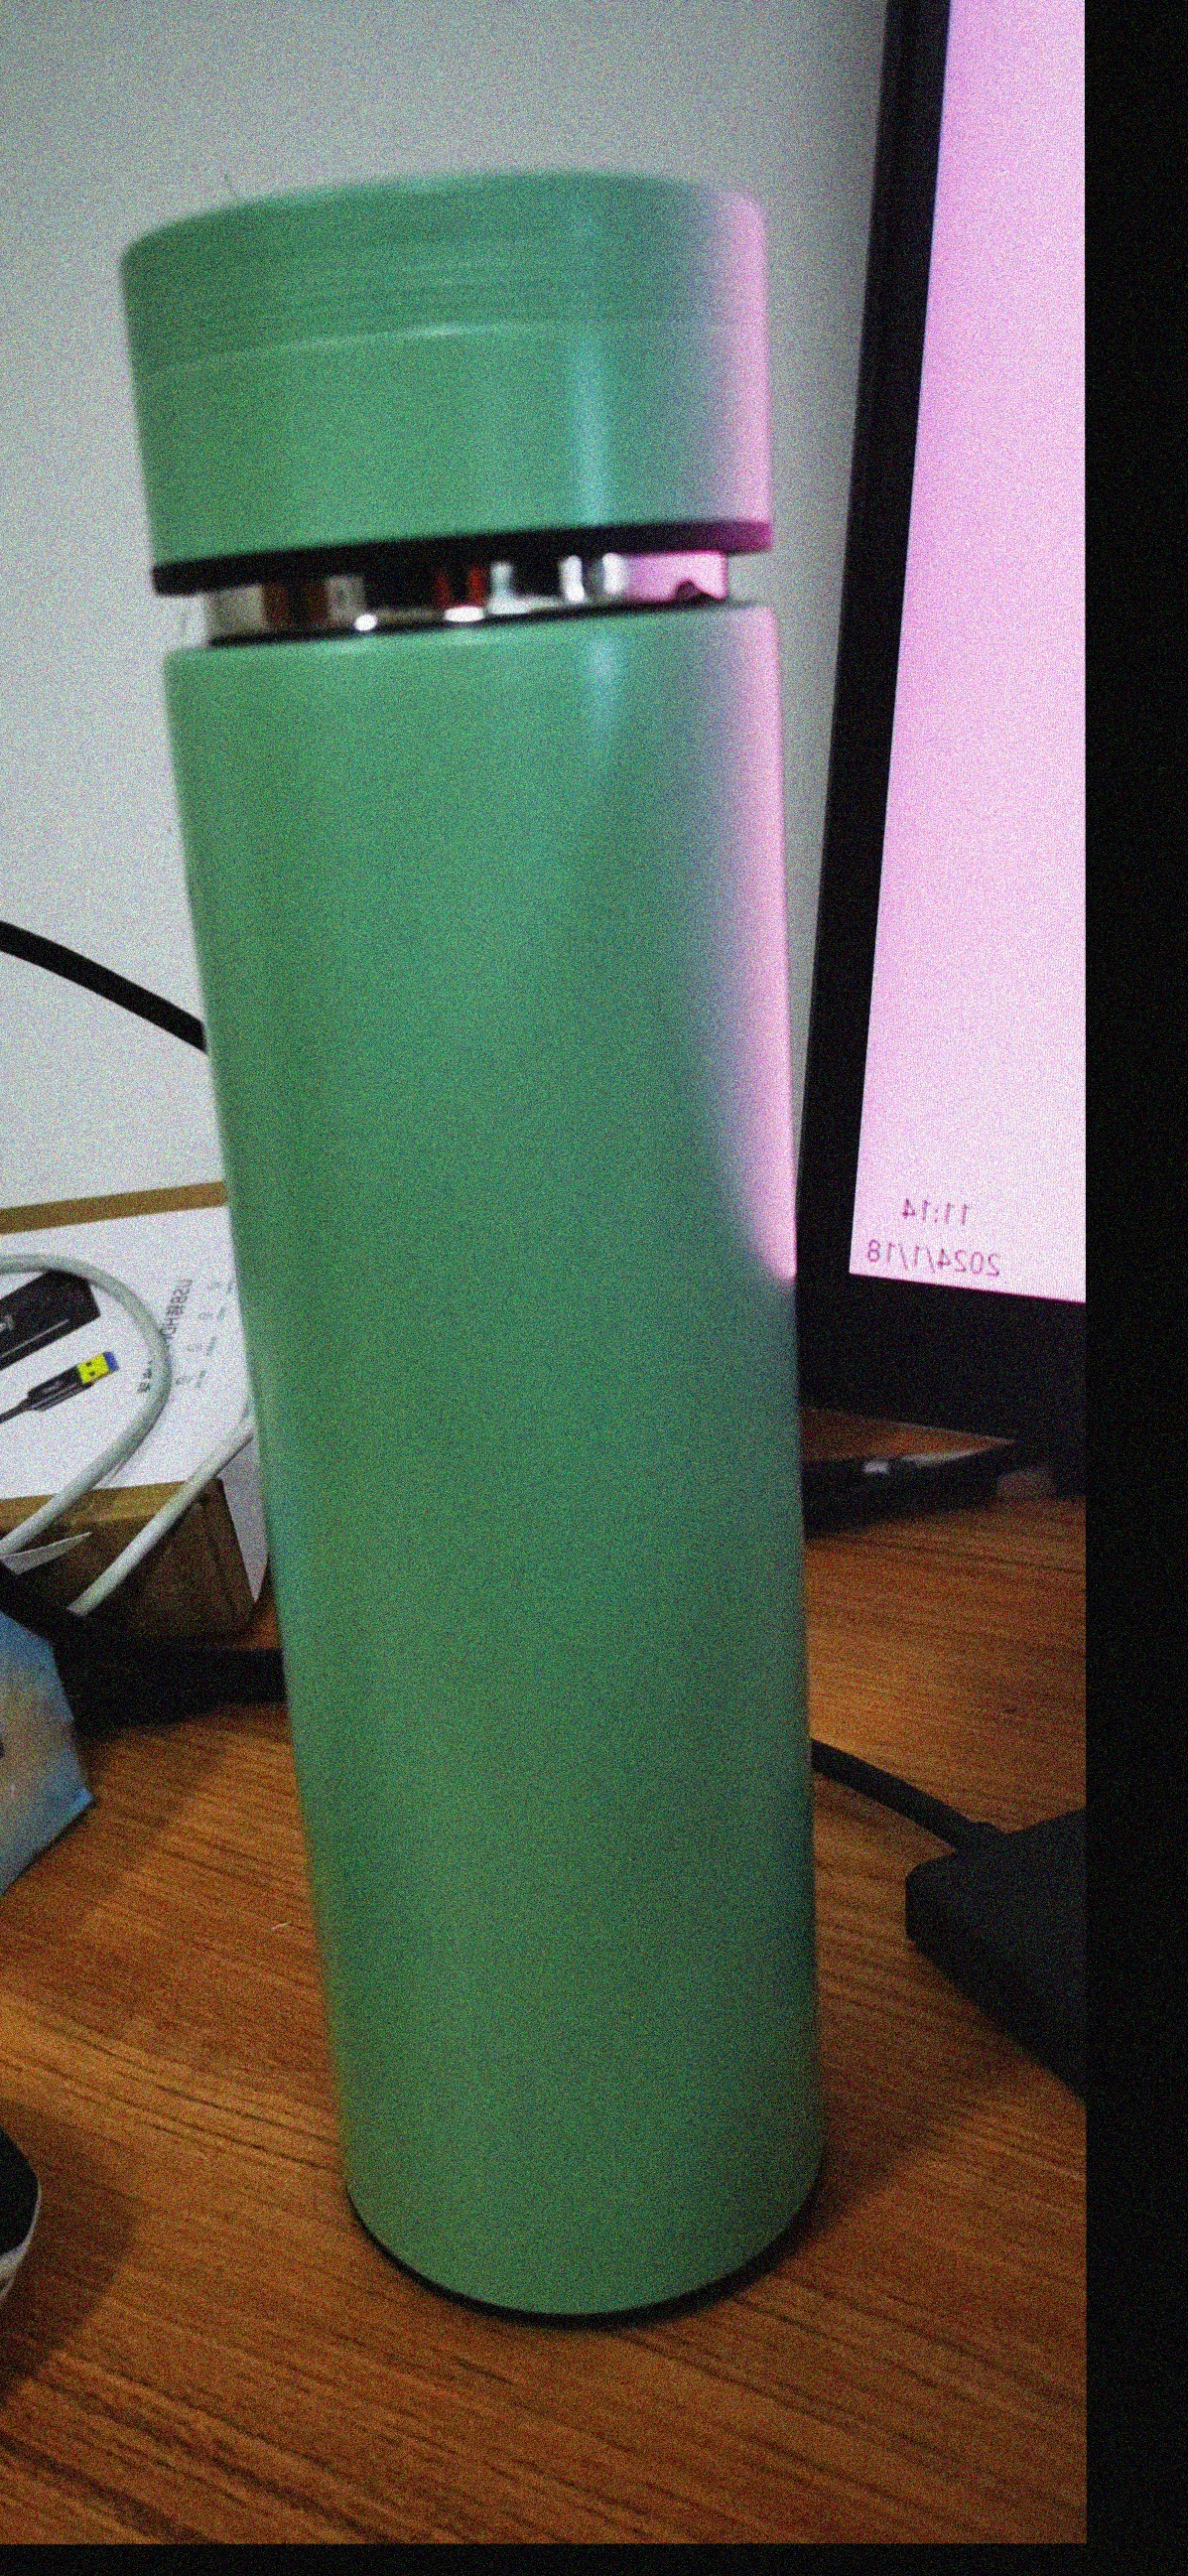cup: (256, 150, 838, 2331)
